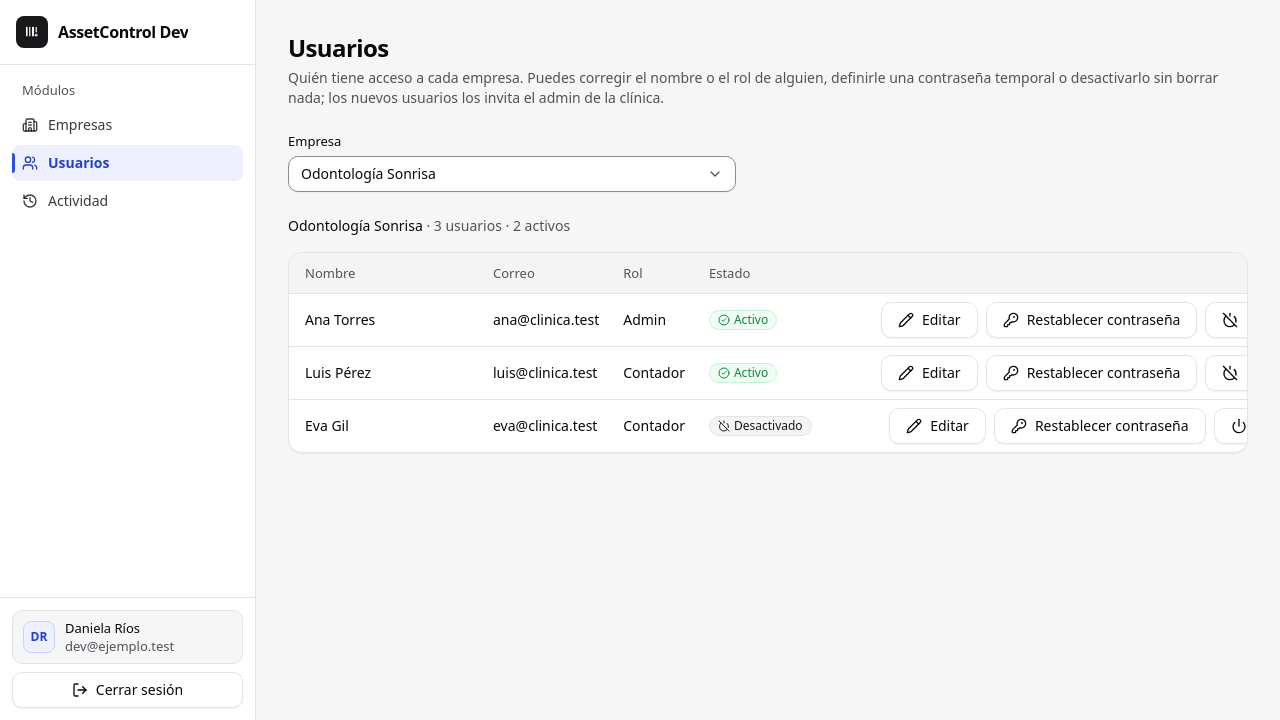
Test: abrir Editar usuario (CU-13; R52) › una membresía desactivada se puede editar y lo dice (R51)
This screenshot has width=1280, height=720.
Click the button "Editar" in the row of "Eva Gil". click: (938, 426)
box: [889,408,986,444]
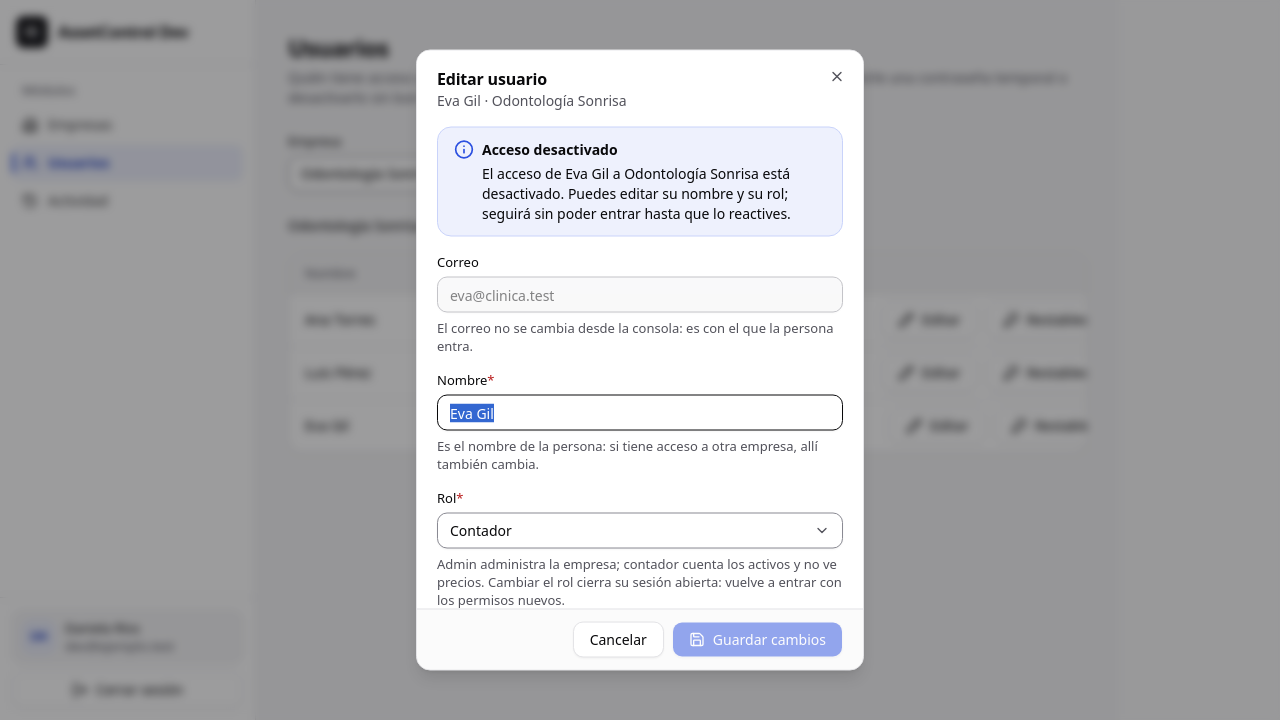
Result: the dialog shows "El acceso de Eva Gil a Odontología Sonrisa está desactivado. Puedes editar su nombre y su rol" at [416,50,864,670]
Result: the field labelled "Nombre*" is enabled at [437,394,843,430]
